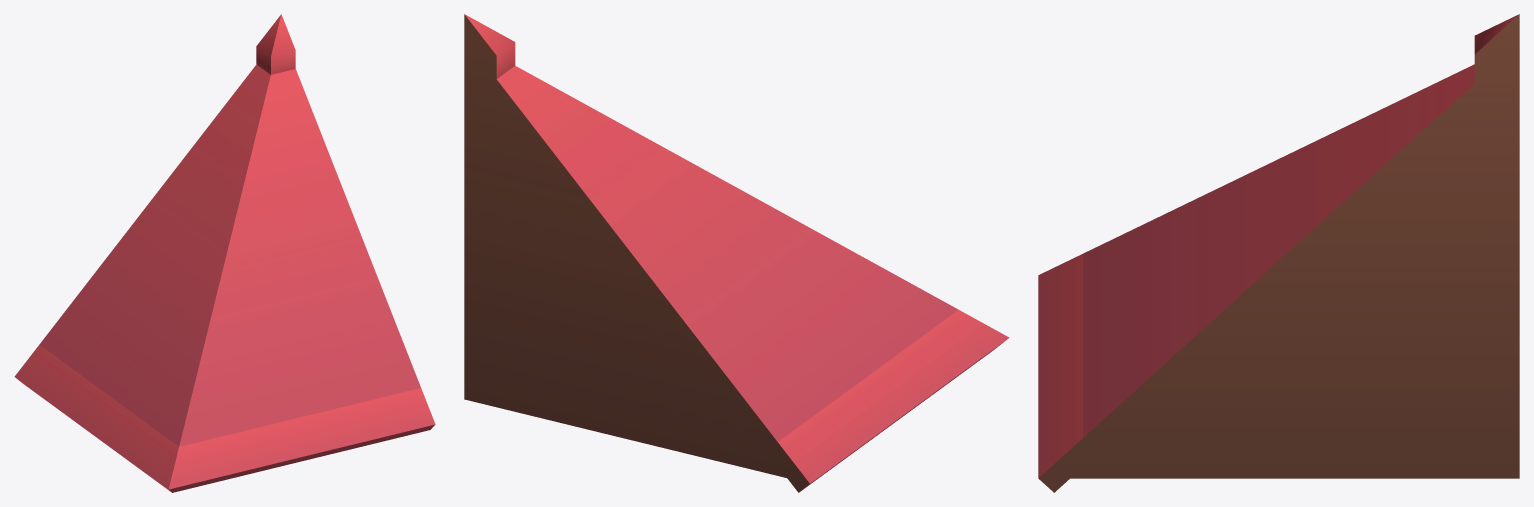
The model's file is roof-high-corner.glb.
3 renders of one model, left to right at view 1: azimuth 30°, elevation 25°; view 2: azimuth 150°, elevation 25°; view 3: azimuth 270°, elevation 25°, orthographic. The views are drawn at different scales.
Parts seen in each view (by area): view 1: roof-high-corner; view 2: roof-high-corner; view 3: roof-high-corner.
Part boxes in pixels (left/top/right/bottom): roof-high-corner: left=14, top=14, right=435, bottom=492; roof-high-corner: left=464, top=14, right=1009, bottom=492; roof-high-corner: left=1038, top=14, right=1519, bottom=492.
Size of the model in its own units: 1.07 by 1.18 by 1.07.
1 material, 1 textured.
